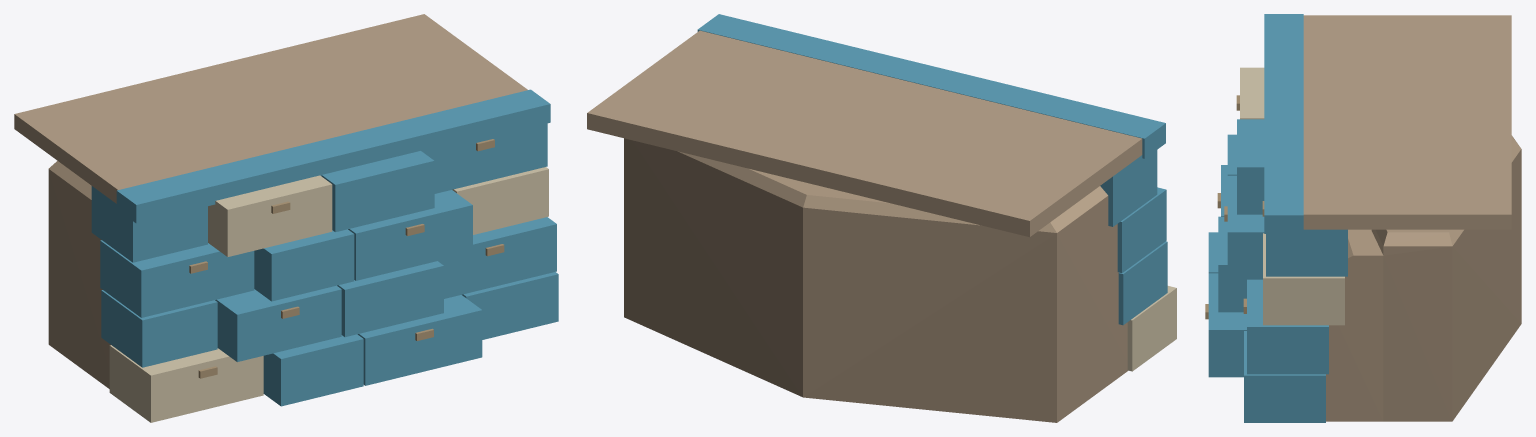
The model's file is terrace-corner-sky.glb.
3 renders of one model, left to right at view 1: azimuth 30°, elevation 25°; view 2: azimuth 150°, elevation 25°; view 3: azimuth 270°, elevation 25°, orthographic. The views are drawn at different scales.
Parts seen in each view (by area): view 1: terrace-corner-sky; view 2: terrace-corner-sky; view 3: terrace-corner-sky.
Boxes of the visible parts, bbox=[...] form: terrace-corner-sky: bbox=[14, 14, 558, 422]; terrace-corner-sky: bbox=[587, 14, 1176, 422]; terrace-corner-sky: bbox=[1205, 14, 1521, 422].
Bounding box in the file's own units: 6.04 × 2.93 × 4.01.
